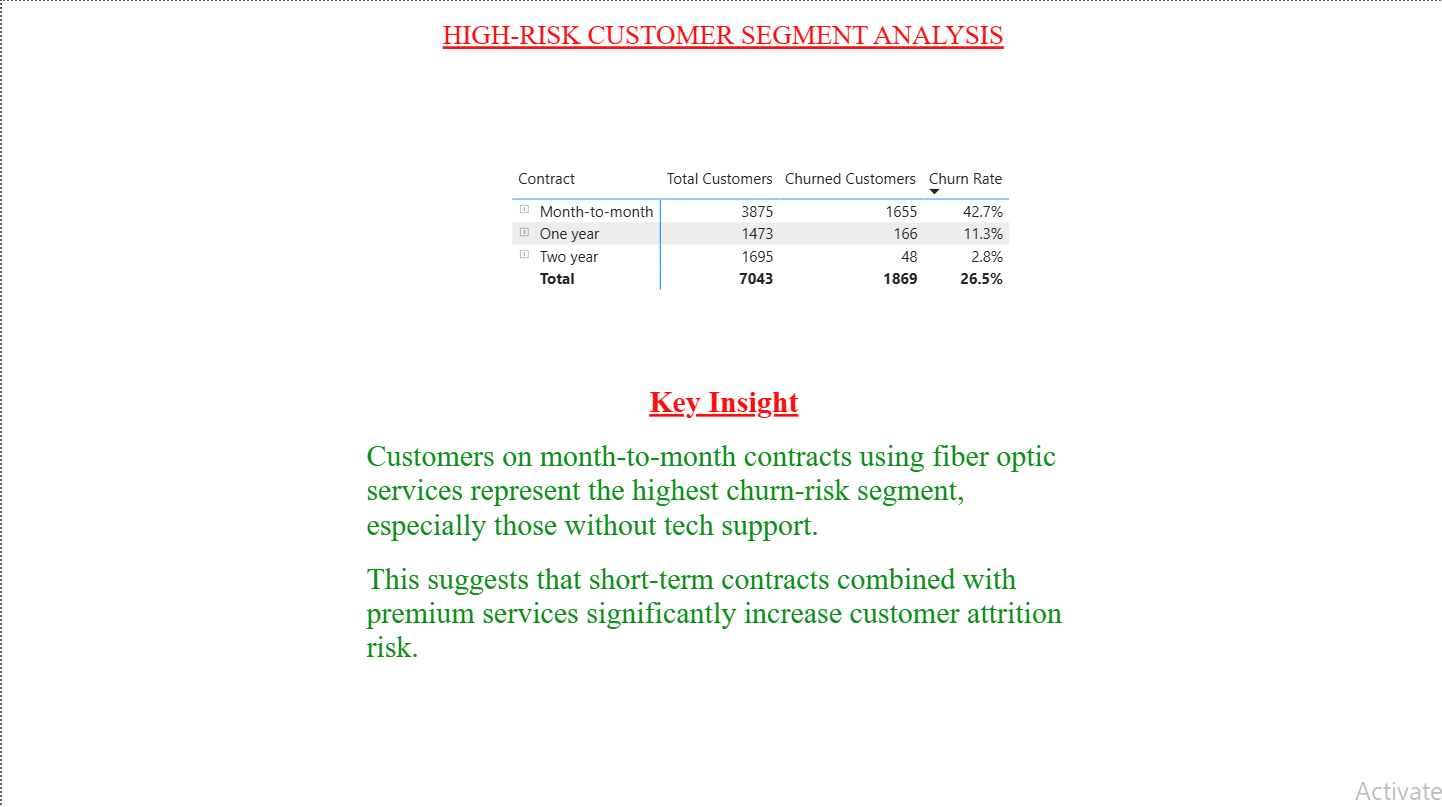

The dashboard page shown, as its layout file describes it:
{"tool":"powerbi","page":{"name":"Customer Risk Segmentation","canvas":[1280,720],"ordinal":1},"visuals":[{"type":"pivotTable","fields":{"Rows":["churn_data.Contract","churn_data.InternetService","churn_data.TechSupport"],"Values":["churn_data.Total Customers","churn_data.Churned Customers","churn_data.Churn Rate"]},"box":[449.1,142.3,465,125.2],"z":0},{"type":"textbox","box":[319,336.2,645.4,295.7],"z":1},{"type":"textbox","box":[376.7,12.3,528.8,68.7],"z":2}]}

Visuals, with their boxes in screenshot pixels (x1, y1, x2, y2), scaled from the page's 1280x720 canvas onto the 1442x807 screenshot:
pivotTable - churn_data.Contract x churn_data.InternetService: bbox(506, 159, 1030, 300)
textbox: bbox(359, 377, 1086, 708)
textbox: bbox(424, 14, 1020, 91)
